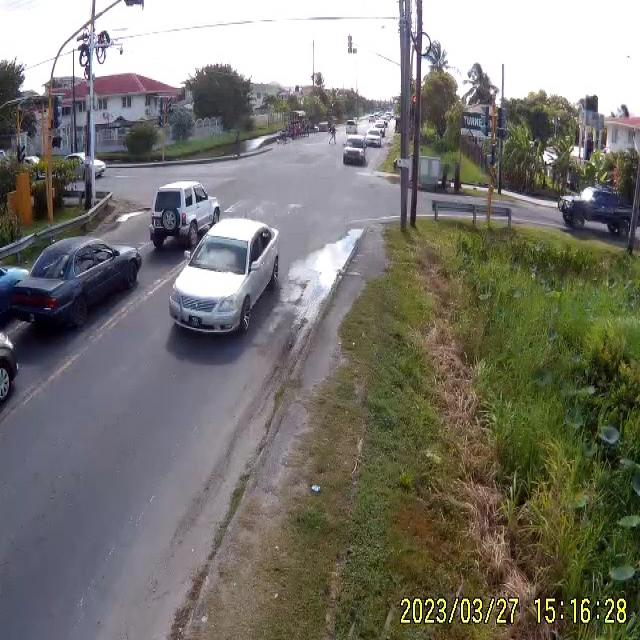car: (4, 236, 143, 337), (168, 219, 282, 336), (150, 182, 222, 252), (561, 188, 634, 236), (343, 140, 366, 169), (364, 127, 382, 147)
